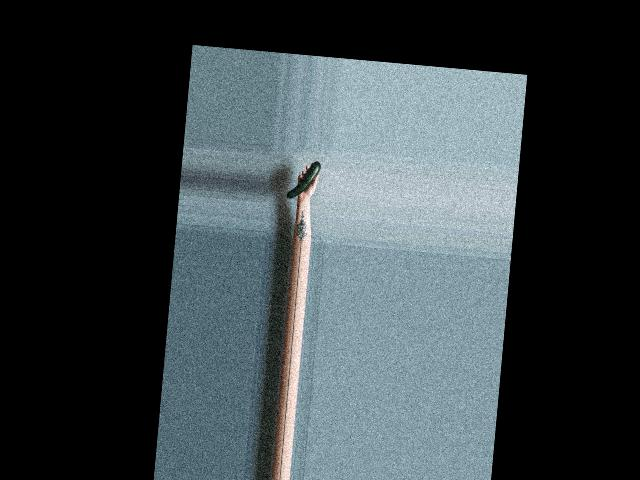cucumber: (285, 158, 320, 200)
